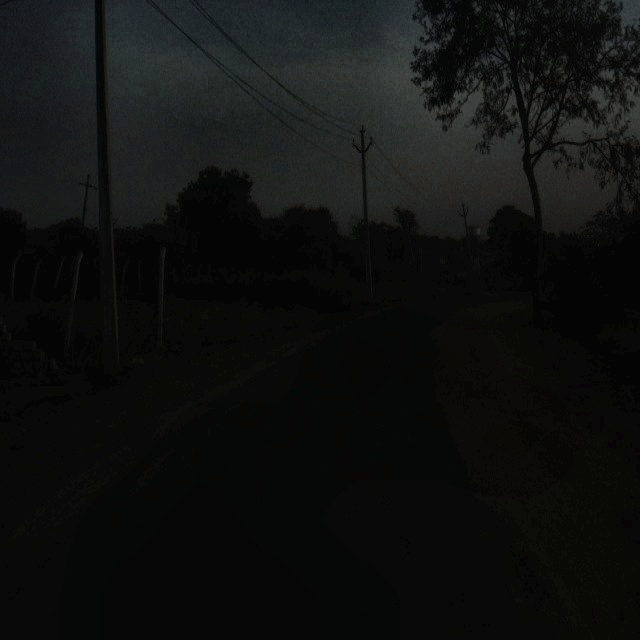Pothole: (366, 520, 418, 582), (358, 433, 403, 473)
